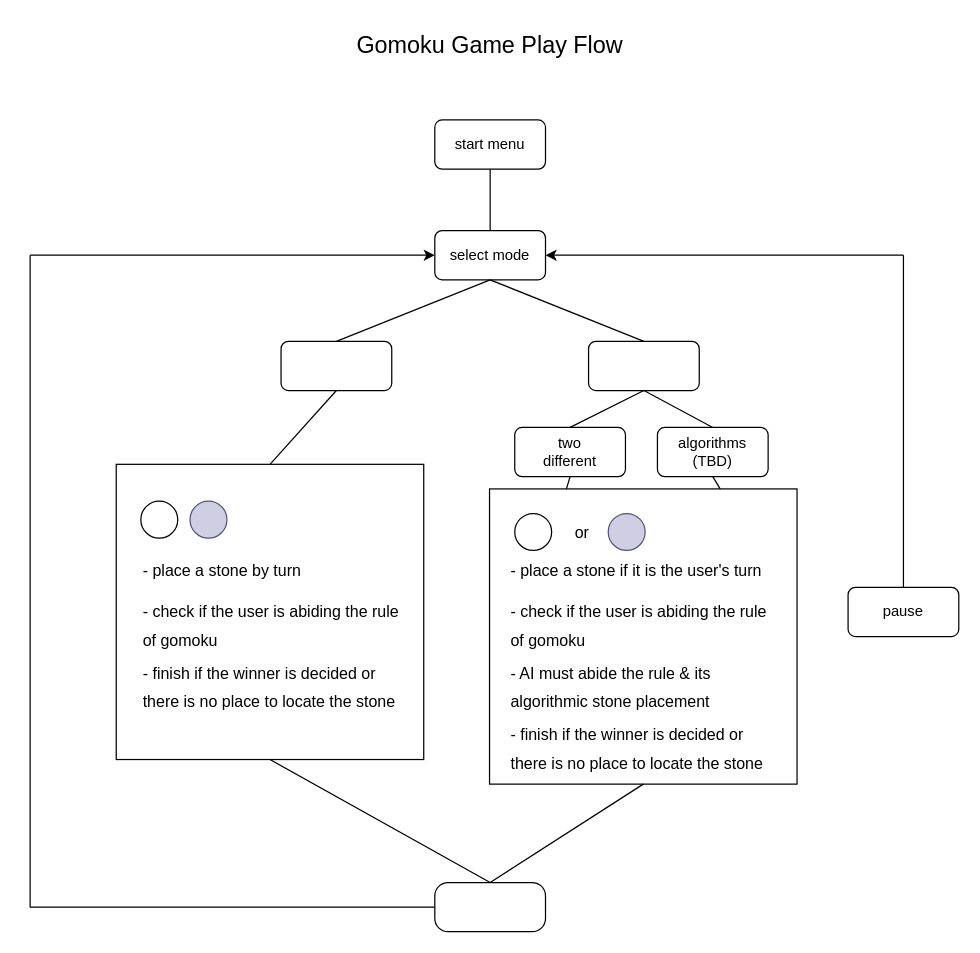
Some shapes in this 980 by 953 pixel diagram are drawn without their labels. The box of each missing label's shape, as (x1, y1, x2, y2) in pixels:
game over: (434, 881, 546, 932)
play AI: (587, 340, 699, 391)
play Local: (280, 340, 392, 391)
